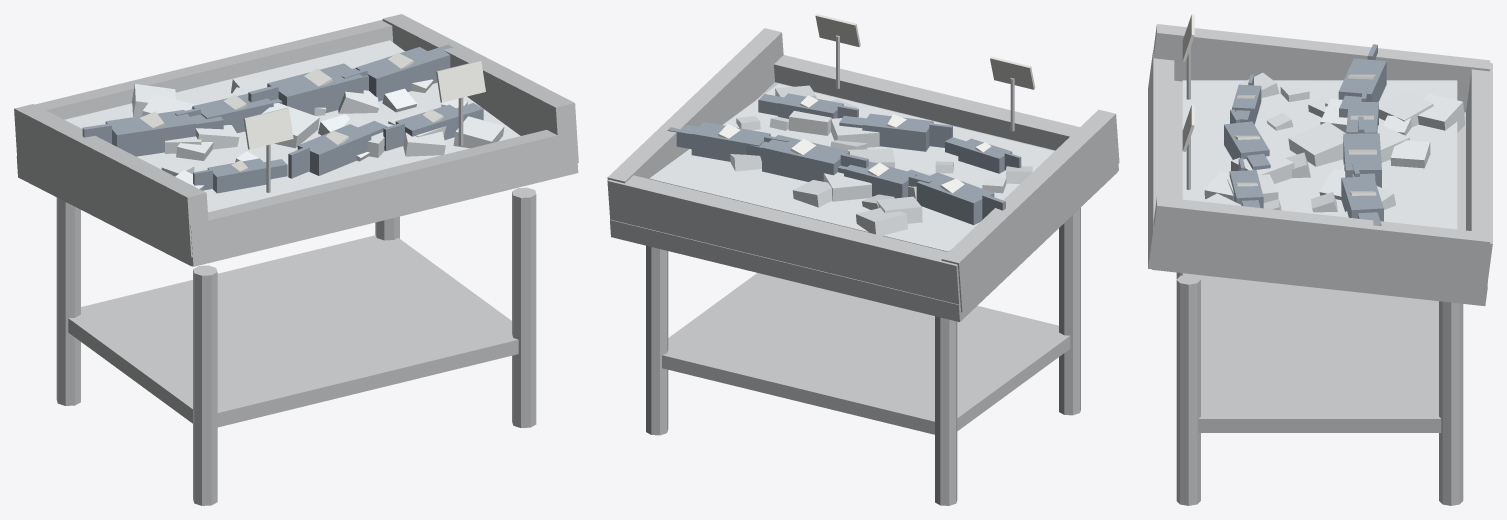
The model's file is fish-market-and-trawler-quay-fish-market-and-trawler-q-65f50f50__37284.glb.
3 renders of one model, left to right at view 1: azimuth 30°, elevation 25°; view 2: azimuth 150°, elevation 25°; view 3: azimuth 270°, elevation 25°, orthographic. The views are drawn at different scales.
Visible parts, largest first — view 1: fish-market-and-trawler-quay-fish-display-slab-small; view 2: fish-market-and-trawler-quay-fish-display-slab-small; view 3: fish-market-and-trawler-quay-fish-display-slab-small.
Boxes of the visible parts, x1,y1,x2,y2 form: fish-market-and-trawler-quay-fish-display-slab-small: (14, 14, 578, 505); fish-market-and-trawler-quay-fish-display-slab-small: (607, 14, 1119, 505); fish-market-and-trawler-quay-fish-display-slab-small: (1148, 14, 1492, 505).
Size of the model in its own units: 1.41 by 1.29 by 1.13.
